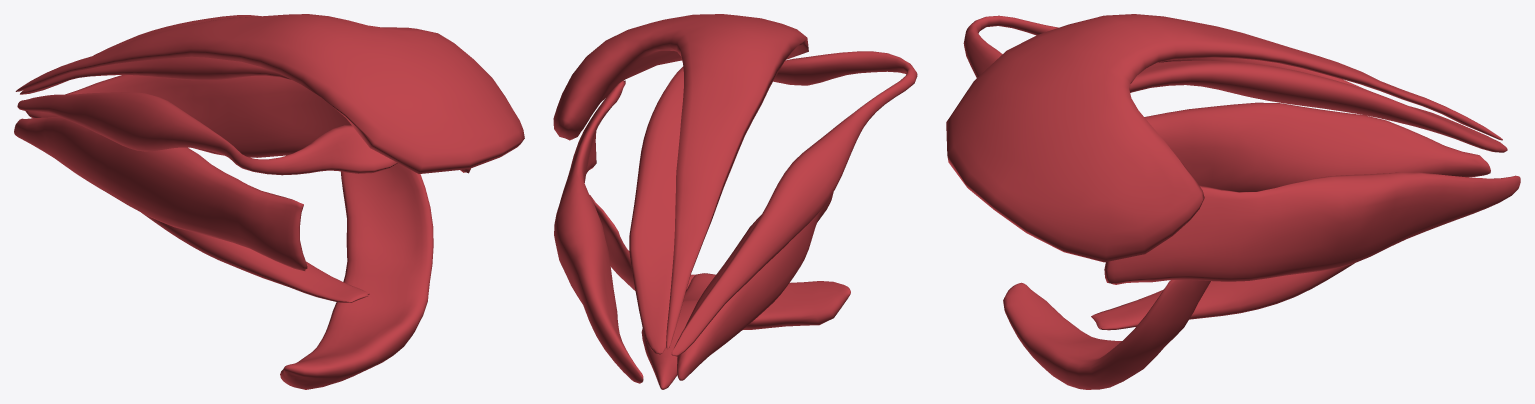
File: VH_M_Muscles_Eye_L.glb
3 views of the same model, side by side, from view 1: azimuth 30°, elevation 25°; view 2: azimuth 150°, elevation 25°; view 3: azimuth 270°, elevation 25° (orthographic). The views are drawn at different scales.
Parts seen in each view (by area): view 1: VH_M_levator_palpebrae_superioris_L, VH_M_inferior_oblique_extraocular_muscle_L, VH_M_medial_rectus_extraocular_muscle_L, VH_M_superior_oblique_extraocular_muscle_L, VH_M_lateral_rectus_extraocular_muscle_L, VH_M_inferior_rectus_extraocular_muscle_L, VH_M_superior_rectus_extraocular_muscle_L; view 2: VH_M_levator_palpebrae_superioris_L, VH_M_superior_oblique_extraocular_muscle_L, VH_M_superior_rectus_extraocular_muscle_L, VH_M_lateral_rectus_extraocular_muscle_L, VH_M_medial_rectus_extraocular_muscle_L, VH_M_inferior_oblique_extraocular_muscle_L, VH_M_inferior_rectus_extraocular_muscle_L; view 3: VH_M_levator_palpebrae_superioris_L, VH_M_lateral_rectus_extraocular_muscle_L, VH_M_medial_rectus_extraocular_muscle_L, VH_M_inferior_oblique_extraocular_muscle_L, VH_M_superior_rectus_extraocular_muscle_L, VH_M_inferior_rectus_extraocular_muscle_L, VH_M_superior_oblique_extraocular_muscle_L.
Part boxes in pixels (bbox=[...]): VH_M_levator_palpebrae_superioris_L: bbox=[15, 14, 524, 173]; VH_M_inferior_oblique_extraocular_muscle_L: bbox=[280, 163, 433, 389]; VH_M_medial_rectus_extraocular_muscle_L: bbox=[14, 116, 307, 270]; VH_M_superior_oblique_extraocular_muscle_L: bbox=[17, 92, 397, 175]; VH_M_lateral_rectus_extraocular_muscle_L: bbox=[25, 75, 470, 173]; VH_M_inferior_rectus_extraocular_muscle_L: bbox=[141, 212, 369, 302]; VH_M_superior_rectus_extraocular_muscle_L: bbox=[20, 15, 292, 94]; VH_M_levator_palpebrae_superioris_L: bbox=[553, 14, 808, 349]; VH_M_superior_oblique_extraocular_muscle_L: bbox=[671, 51, 917, 356]; VH_M_superior_rectus_extraocular_muscle_L: bbox=[629, 66, 683, 354]; VH_M_lateral_rectus_extraocular_muscle_L: bbox=[554, 80, 643, 383]; VH_M_medial_rectus_extraocular_muscle_L: bbox=[677, 192, 833, 380]; VH_M_inferior_oblique_extraocular_muscle_L: bbox=[589, 194, 850, 330]; VH_M_inferior_rectus_extraocular_muscle_L: bbox=[641, 273, 715, 389]; VH_M_levator_palpebrae_superioris_L: bbox=[946, 14, 1502, 262]; VH_M_lateral_rectus_extraocular_muscle_L: bbox=[1104, 172, 1520, 284]; VH_M_medial_rectus_extraocular_muscle_L: bbox=[1144, 102, 1490, 191]; VH_M_inferior_oblique_extraocular_muscle_L: bbox=[1003, 280, 1210, 389]; VH_M_superior_rectus_extraocular_muscle_L: bbox=[1129, 60, 1507, 152]; VH_M_inferior_rectus_extraocular_muscle_L: bbox=[1091, 263, 1354, 330]; VH_M_superior_oblique_extraocular_muscle_L: bbox=[963, 15, 1368, 90].
Bounding box in the file's own units: 0.0367 × 0.0358 × 0.0545.
